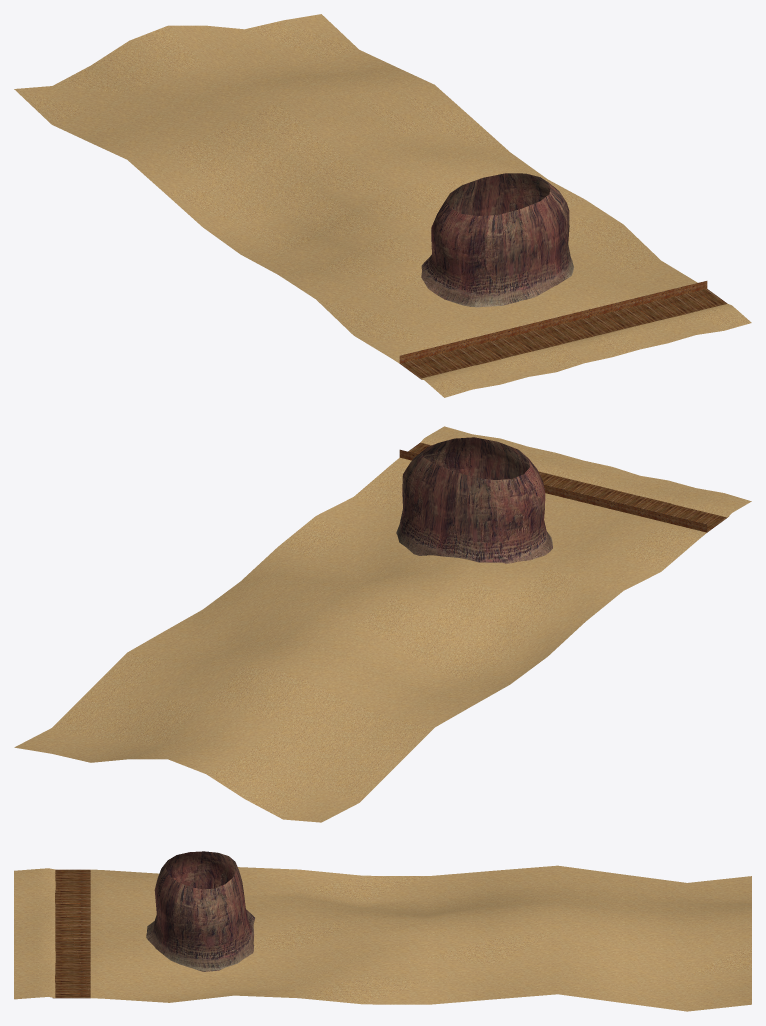
File: terr_desert.FBX
3 views of the same model, one above another, from view 1: azimuth 30°, elevation 25°; view 2: azimuth 150°, elevation 25°; view 3: azimuth 270°, elevation 25° (orthographic). The views are drawn at different scales.
Visible parts, largest first — view 1: sand1, Box01, sand2, road, fence; view 2: sand1, Box01, sand2, road, fence; view 3: sand1, Box01, sand2, road.
Boxes of the visible parts, x1,y1,x2,y2 form: sand1: (14, 14, 697, 363); Box01: (421, 173, 573, 307); sand2: (420, 304, 751, 397); road: (400, 289, 727, 379); fence: (399, 281, 707, 363); sand1: (14, 457, 706, 822); Box01: (396, 437, 552, 563); sand2: (420, 426, 751, 517); road: (408, 442, 727, 532); fence: (399, 449, 707, 532); sand1: (90, 865, 751, 1011); Box01: (146, 851, 254, 971); sand2: (14, 868, 55, 999); road: (53, 869, 90, 998).
Bounding box in the file's own units: 200 × 63.42 × 485.
Materials: 4 (4 with a texture image).
